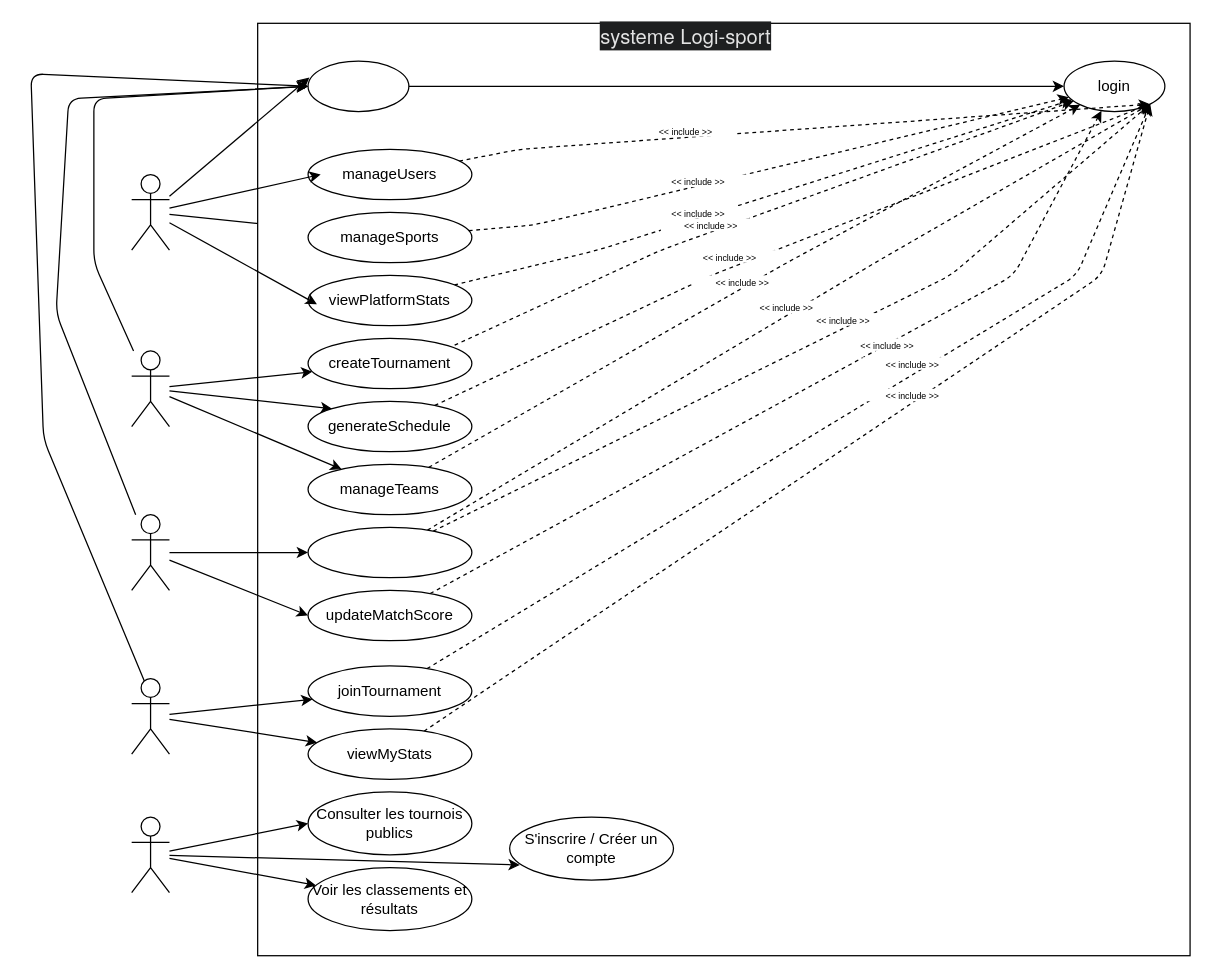
Some shapes in this 1212 by 978 pixel diagram are drawn without their labels. The shapes that lost their labels are listed below. From the top down, each one's box as (x1, y1, x2, y2) in pixels, then its label:
(307, 60, 409, 112): register
(130, 173, 169, 250): Admin
(130, 350, 169, 427): Organizer
(130, 513, 169, 590): Referee
(307, 526, 472, 578): viewAssignedMatches
(130, 677, 169, 754): Player
(130, 816, 169, 893): Visiteur
